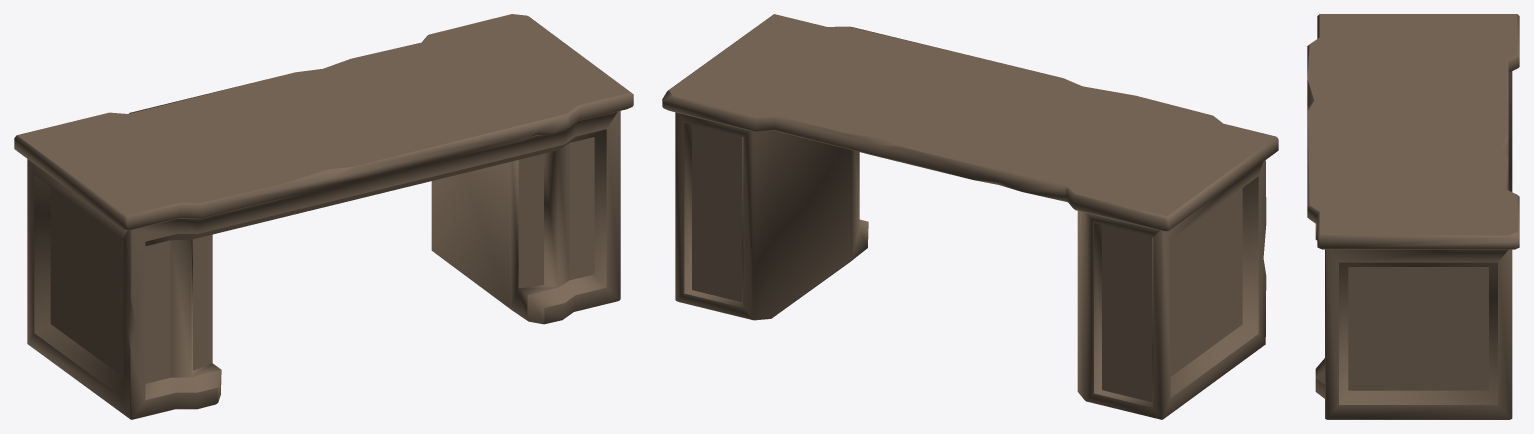
File: DeskTable.FBX
The picture shows the model from 3 angles, left to right: view 1: azimuth 30°, elevation 25°; view 2: azimuth 150°, elevation 25°; view 3: azimuth 270°, elevation 25°; orthographic projection. The views are drawn at different scales.
Parts seen in each view (by area): view 1: Desk_01; view 2: Desk_01; view 3: Desk_01.
Part boxes in pixels (bbox=[...]): Desk_01: bbox=[14, 14, 633, 419]; Desk_01: bbox=[662, 14, 1278, 419]; Desk_01: bbox=[1307, 14, 1519, 419].
Bounding box in the file's own units: 12.09 × 4.76 × 4.86.
